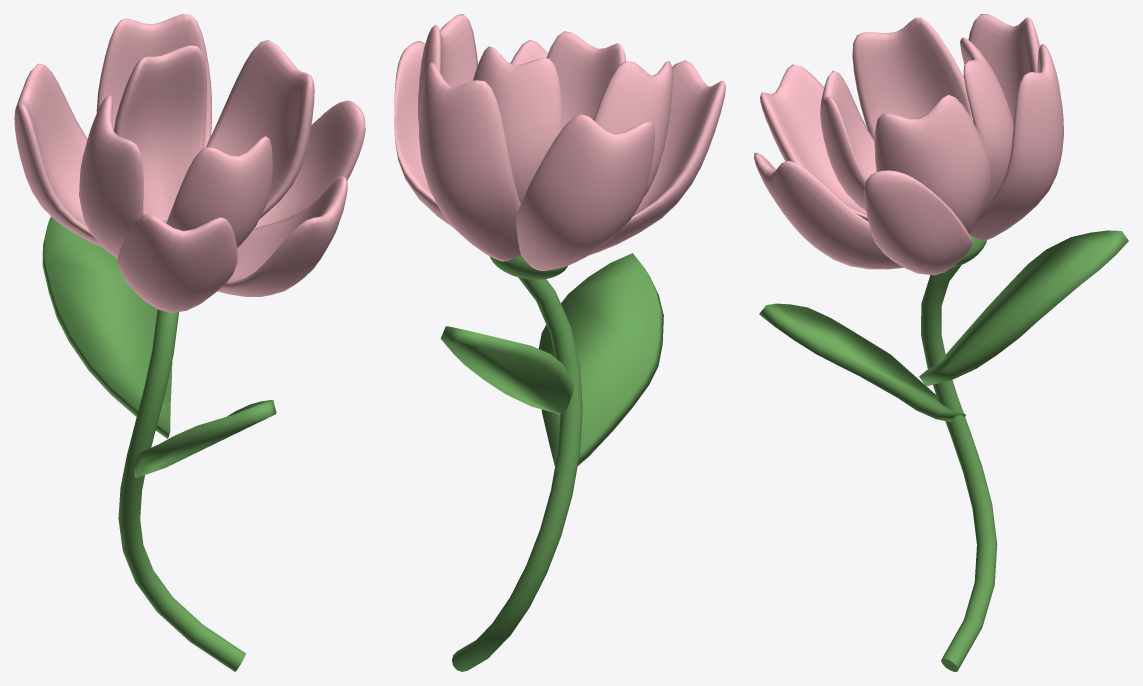
Rendered from Flower1AR.glb.
The picture shows the model from 3 angles, left to right: view 1: azimuth 30°, elevation 25°; view 2: azimuth 150°, elevation 25°; view 3: azimuth 270°, elevation 25°; orthographic projection. The views are drawn at different scales.
Visible parts, largest first — view 1: 圆环, 平面.008, 平面.007, 平面.004, 贝塞尔曲线, 平面.002, 平面.006, 平面.005, 平面.003, 平面.009, 平面, 圆环.001; view 2: 平面.002, 圆环.001, 平面, 贝塞尔曲线, 平面.004, 平面.008, 圆环, 平面.003, 平面.005, 平面.009, 平面.007, 球体 (+1 smaller); view 3: 圆环, 平面.007, 平面.003, 平面, 贝塞尔曲线, 平面.009, 平面.006, 圆环.001, 平面.004, 平面.005, 平面.008, 平面.002.
Boxes of the visible parts, x1=… form: 圆环: x1=42, y1=216, x2=172, y2=438; 平面.008: x1=113, y1=45, x2=206, y2=221; 平面.007: x1=206, y1=40, x2=314, y2=218; 平面.004: x1=117, y1=214, x2=237, y2=312; 贝塞尔曲线: x1=118, y1=309, x2=245, y2=671; 平面.002: x1=14, y1=63, x2=103, y2=247; 平面.006: x1=217, y1=176, x2=347, y2=296; 平面.005: x1=166, y1=136, x2=272, y2=247; 平面.003: x1=79, y1=95, x2=143, y2=258; 平面.009: x1=254, y1=100, x2=365, y2=228; 平面: x1=96, y1=14, x2=211, y2=148; 圆环.001: x1=133, y1=400, x2=276, y2=477; 平面.002: x1=516, y1=114, x2=654, y2=270; 圆环.001: x1=538, y1=253, x2=663, y2=474; 平面: x1=419, y1=62, x2=520, y2=261; 贝塞尔曲线: x1=452, y1=277, x2=582, y2=671; 平面.004: x1=590, y1=60, x2=725, y2=254; 平面.008: x1=473, y1=46, x2=562, y2=203; 圆环: x1=440, y1=326, x2=573, y2=414; 平面.003: x1=593, y1=61, x2=672, y2=197; 平面.005: x1=546, y1=31, x2=626, y2=127; 平面.009: x1=394, y1=41, x2=452, y2=226; 平面.007: x1=418, y1=14, x2=477, y2=125; 球体: x1=489, y1=255, x2=567, y2=279; 圆环: x1=919, y1=230, x2=1128, y2=386; 平面.007: x1=874, y1=95, x2=990, y2=233; 平面.003: x1=852, y1=17, x2=972, y2=139; 平面: x1=969, y1=44, x2=1063, y2=240; 贝塞尔曲线: x1=921, y1=265, x2=997, y2=671; 平面.009: x1=864, y1=170, x2=973, y2=275; 平面.006: x1=754, y1=152, x2=904, y2=269; 圆环.001: x1=759, y1=303, x2=965, y2=422; 平面.004: x1=760, y1=64, x2=868, y2=221; 平面.005: x1=820, y1=70, x2=876, y2=210; 平面.008: x1=960, y1=37, x2=1013, y2=214; 平面.002: x1=963, y1=14, x2=1039, y2=125.
Size of the model in its own units: 3.06 by 6.39 by 3.64.
